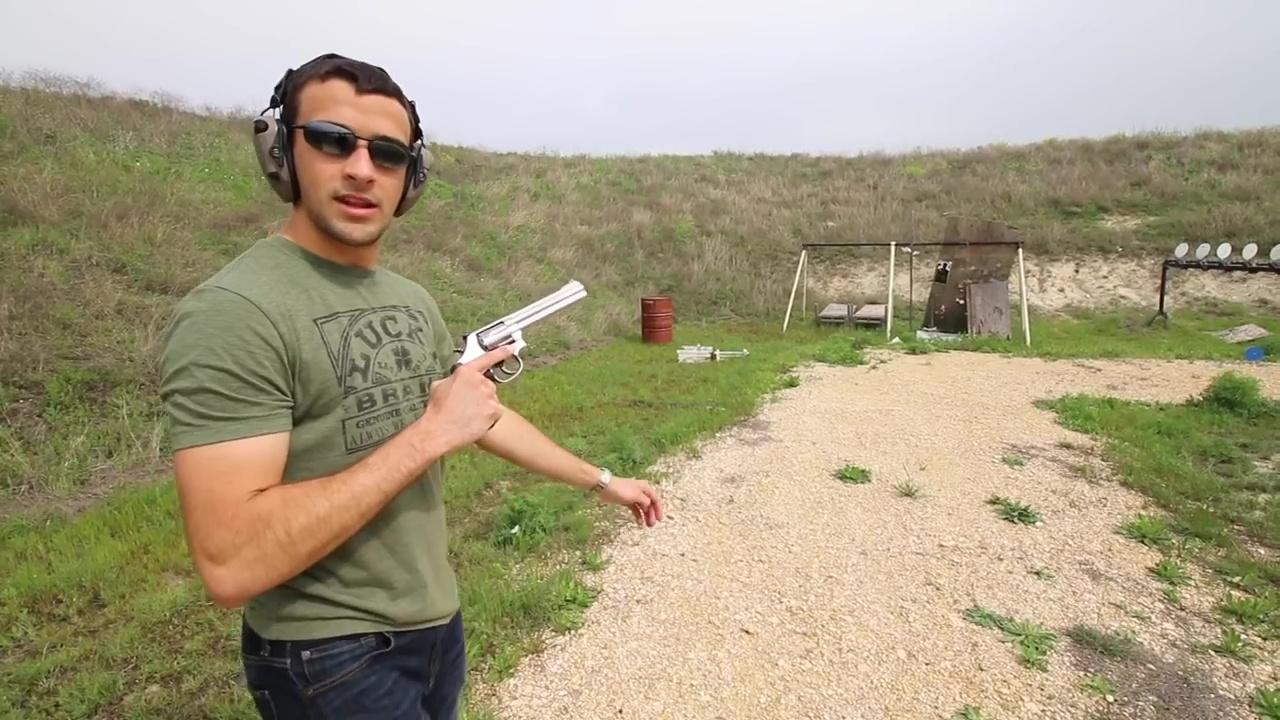weapon: (439, 268, 594, 388)
